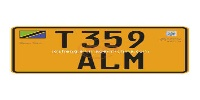T: (54, 29, 75, 50)
